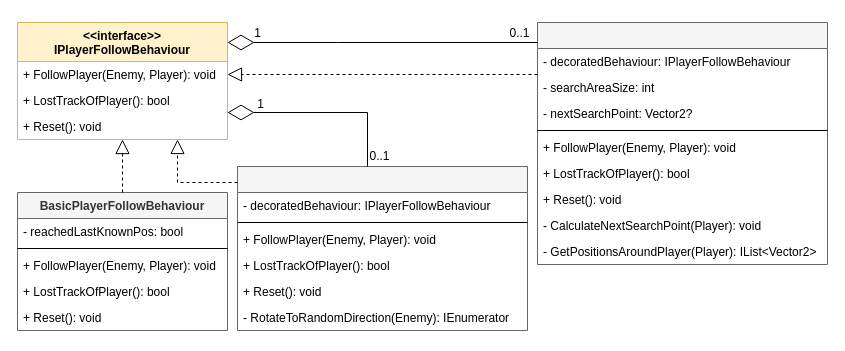
Some shapes in this 845 by 351 pixel diagram are drawn without their labels. Here are the shapes that lost their labels. From the top down, the box of each, then its label:
(536, 22, 828, 264): SearchForPlayerBehaviour
(236, 166, 528, 330): LookForPlayerBehaviour
